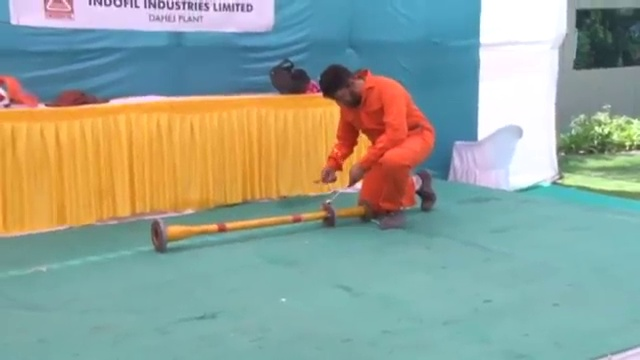helmet_off: (318, 64, 363, 106)
person: (317, 63, 438, 229)
